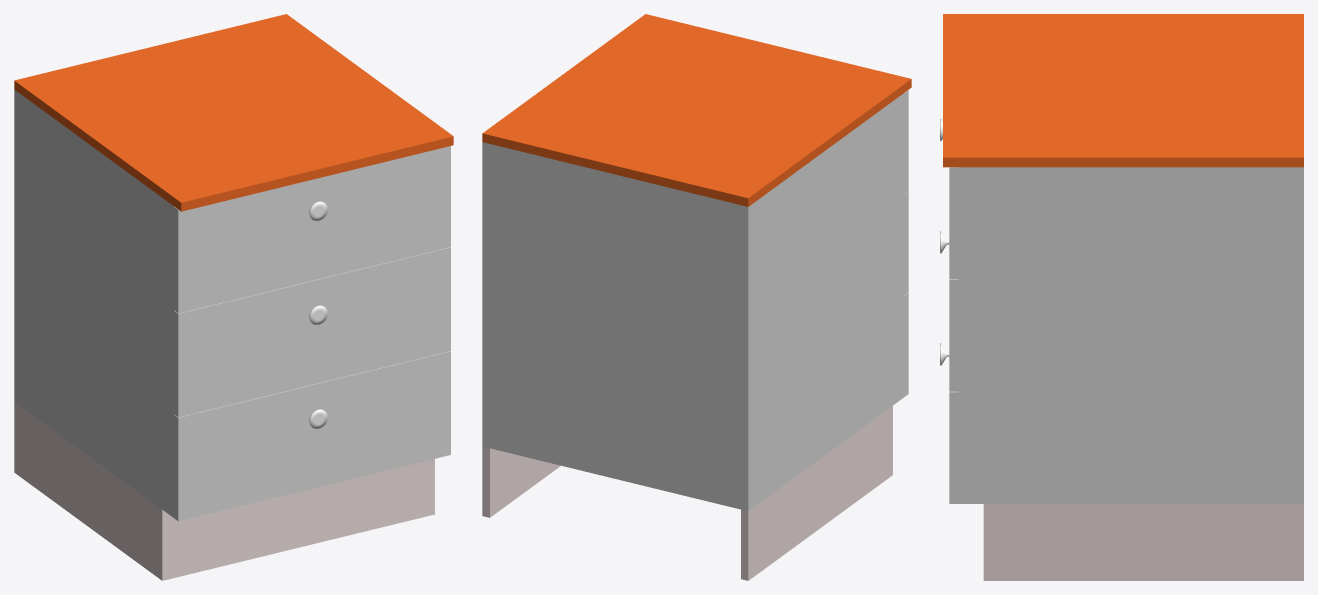
File: NightTable.glb
The picture shows the model from 3 angles, left to right: view 1: azimuth 30°, elevation 25°; view 2: azimuth 150°, elevation 25°; view 3: azimuth 270°, elevation 25°; orthographic projection. The views are drawn at different scales.
Parts seen in each view (by area): view 1: Baseboard1.001; view 2: Baseboard1.001; view 3: Baseboard1.001.
Part boxes in pixels (left/top/right/bottom): Baseboard1.001: left=14, top=14, right=453, bottom=580; Baseboard1.001: left=482, top=14, right=911, bottom=580; Baseboard1.001: left=940, top=14, right=1303, bottom=580.
Size of the model in its own units: 0.64 by 0.88 by 0.685.
